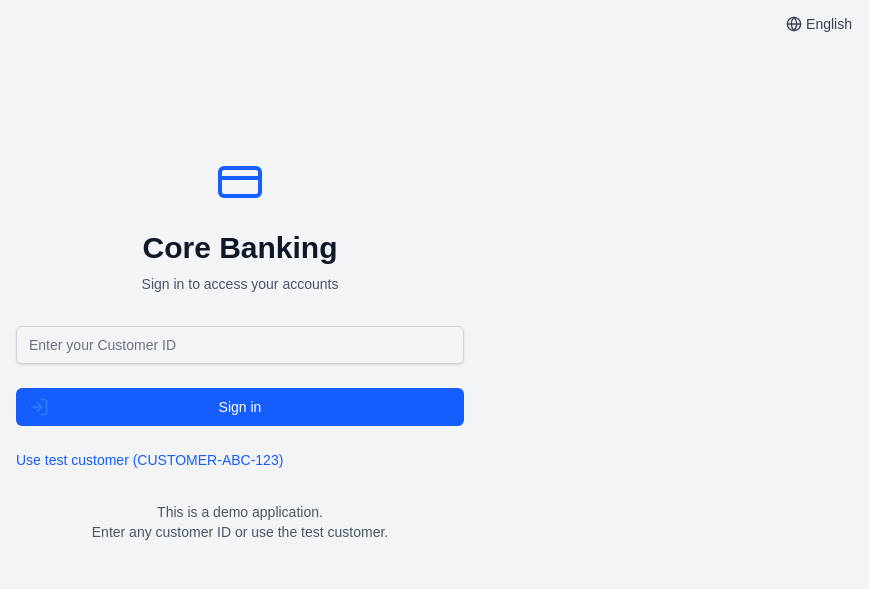
LoginForm › shows error for invalid customer ID format
This screenshot has width=869, height=589.
Step 1. Type "invalid@id" into the field with placeholder "Enter your Customer ID" → (240, 345), box [16, 326, 464, 364]
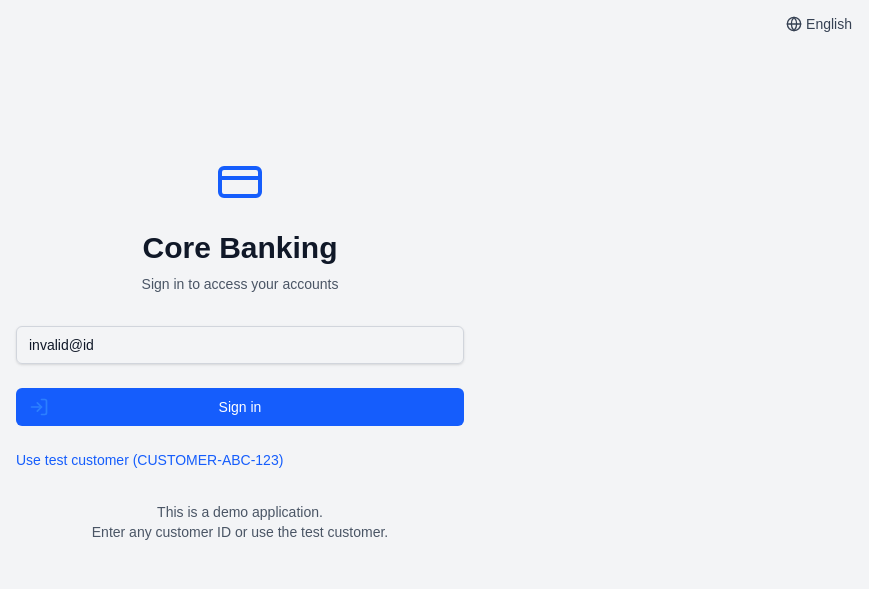
Step 2. Click the button "Sign in" → (240, 407), box [16, 388, 464, 426]
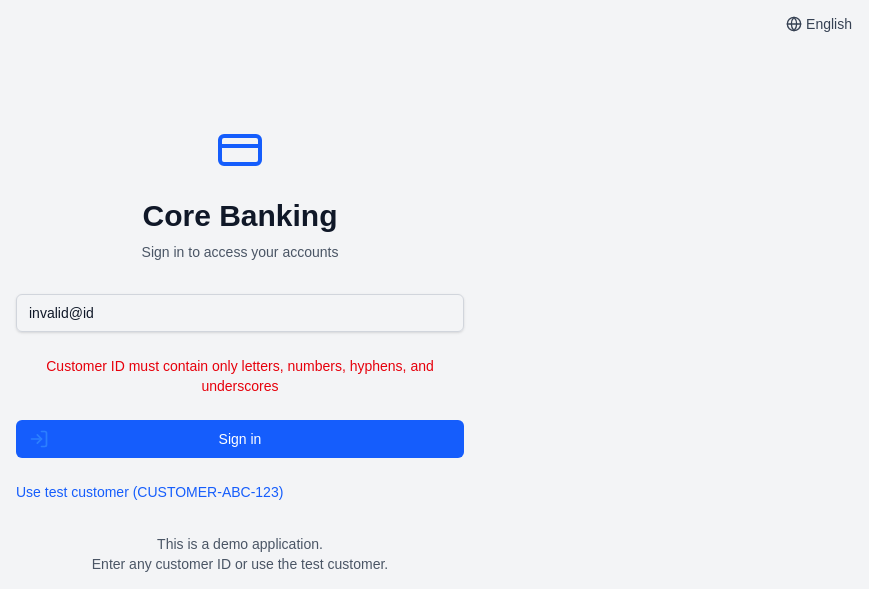
Expected: the text "Customer ID must contain only letters, numbers, hyphens, and underscores" is shown, [16, 356, 464, 396]
